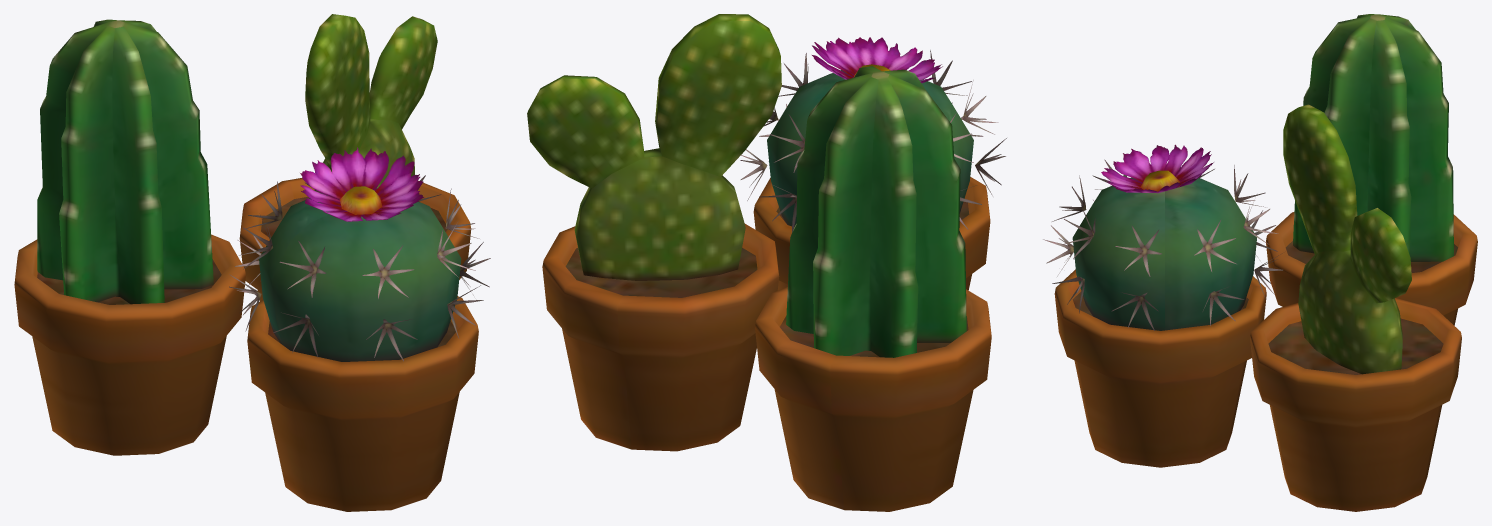
3 views of the same model, side by side, from view 1: azimuth 30°, elevation 25°; view 2: azimuth 150°, elevation 25°; view 3: azimuth 270°, elevation 25° (orthographic). The views are drawn at different scales.
Size of the model in its own units: 5.92 by 5.35 by 5.87.
2 materials, 2 textured.
